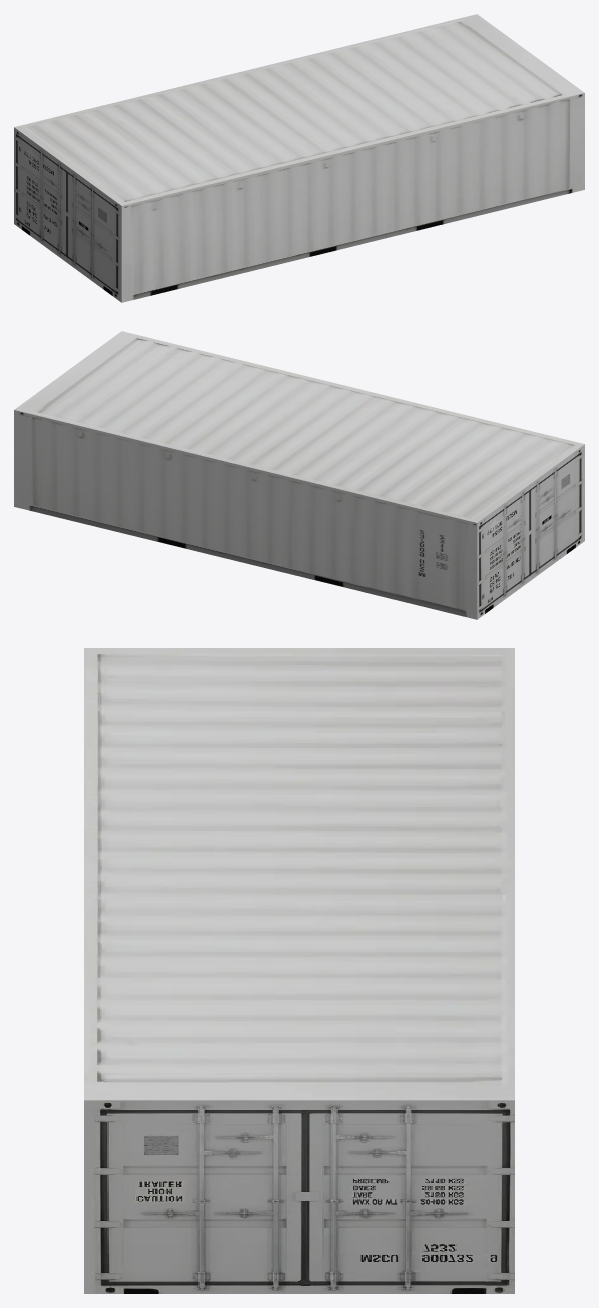
File: 20ft_40_container.glb
3 renders of one model, top to bottom at view 1: azimuth 30°, elevation 25°; view 2: azimuth 150°, elevation 25°; view 3: azimuth 270°, elevation 25°, orthographic. The views are drawn at different scales.
Parts seen in each view (by area): view 1: containerobjcleanermaterialmergergles; view 2: containerobjcleanermaterialmergergles; view 3: containerobjcleanermaterialmergergles.
Part boxes in pixels (<box>): containerobjcleanermaterialmergergles: <box>14,14,584,302</box>; containerobjcleanermaterialmergergles: <box>14,331,584,619</box>; containerobjcleanermaterialmergergles: <box>84,648,514,1293</box>.
Bounding box in the file's own units: 6.06 × 1.21 × 2.44.
Materials: 1 (1 with a texture image).
